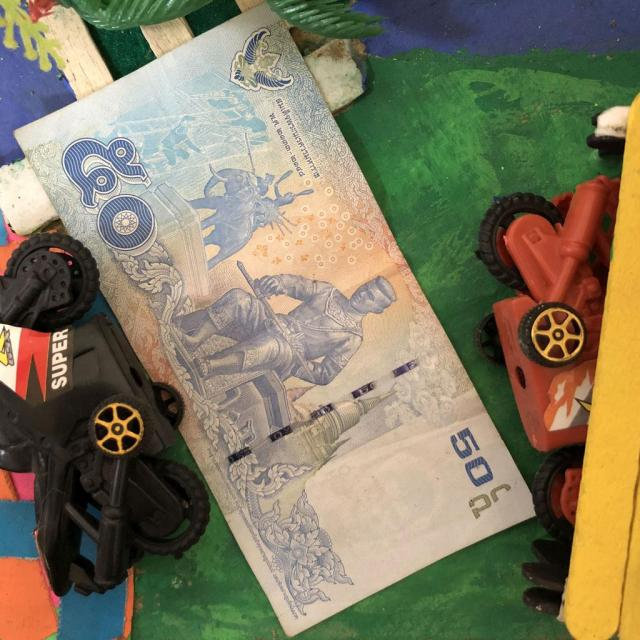THAI50: (18, 6, 533, 635)
